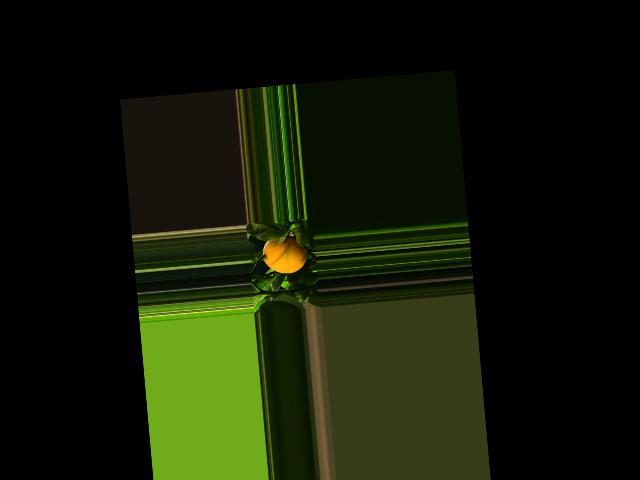lemon: (258, 234, 309, 276)
